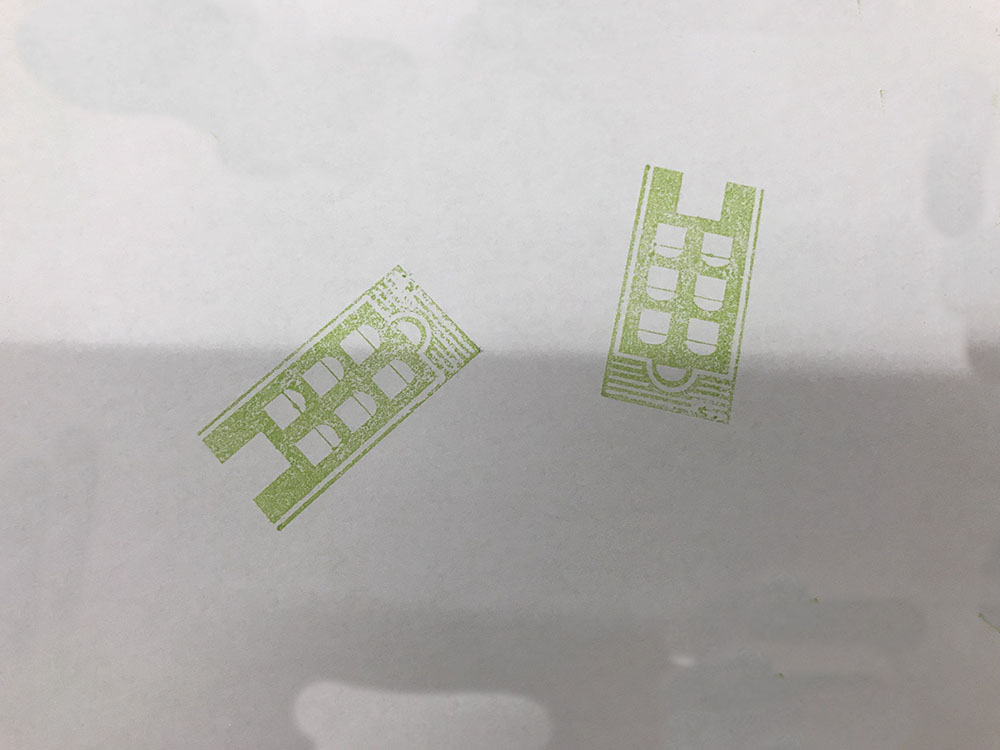build: (166, 258, 495, 547), (584, 152, 779, 438)
